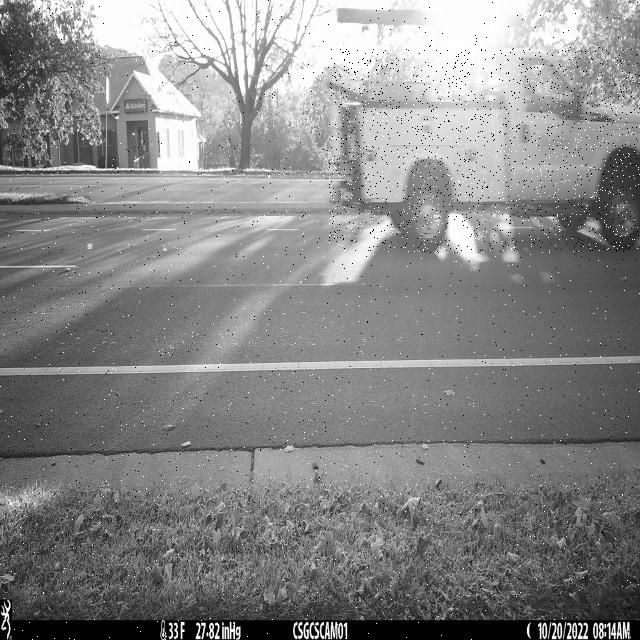Pickup- Utility: (329, 49, 640, 253)
